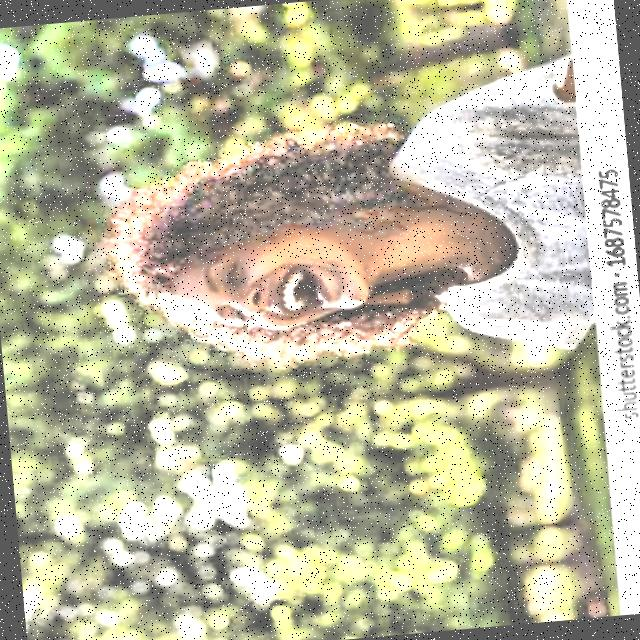happy: (107, 174, 394, 369)
